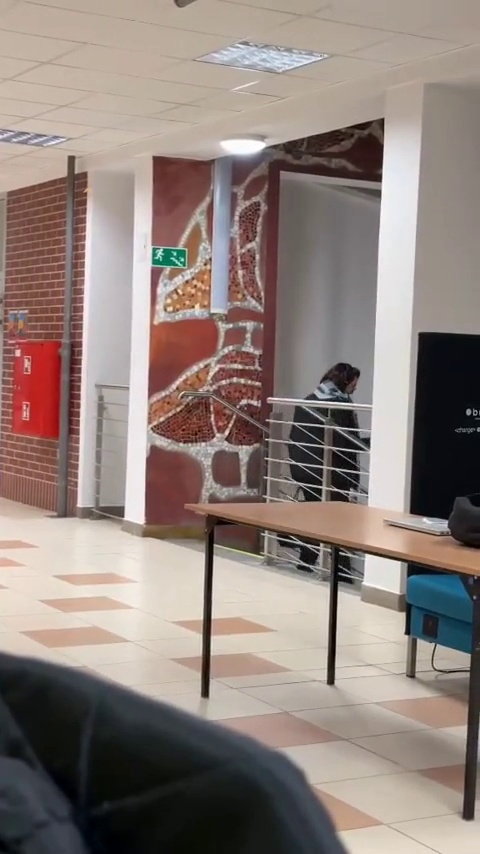no vest: (284, 358, 374, 492)
